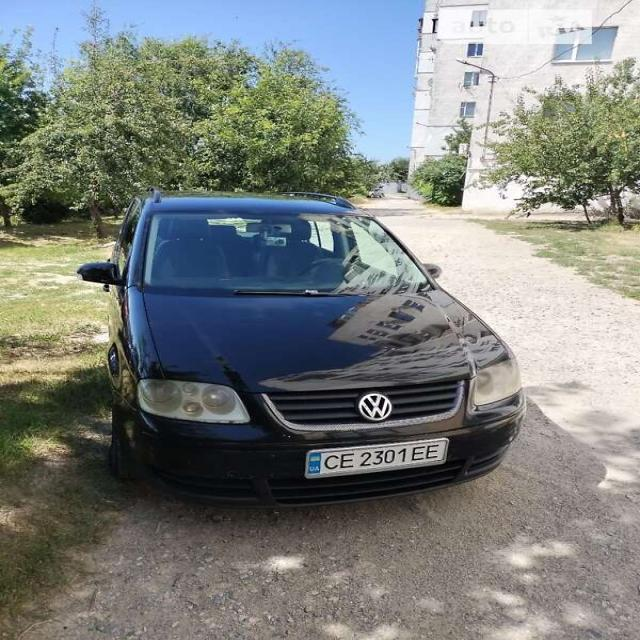plate: (289, 438, 474, 486)
